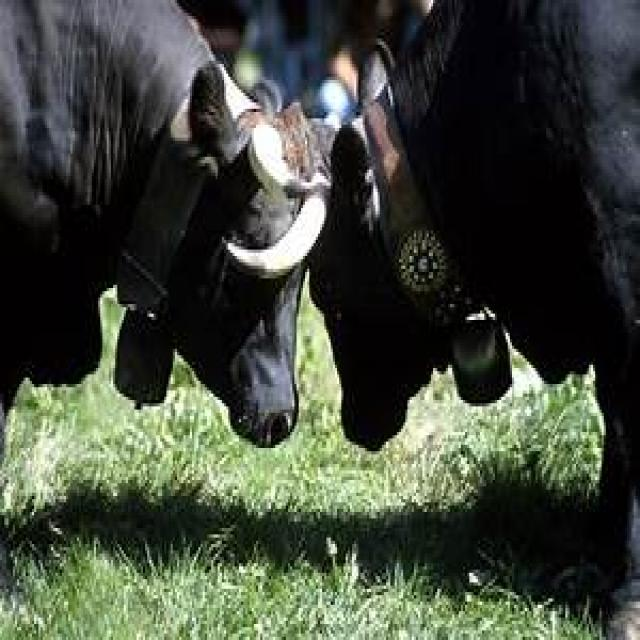cow: (314, 0, 640, 640)
